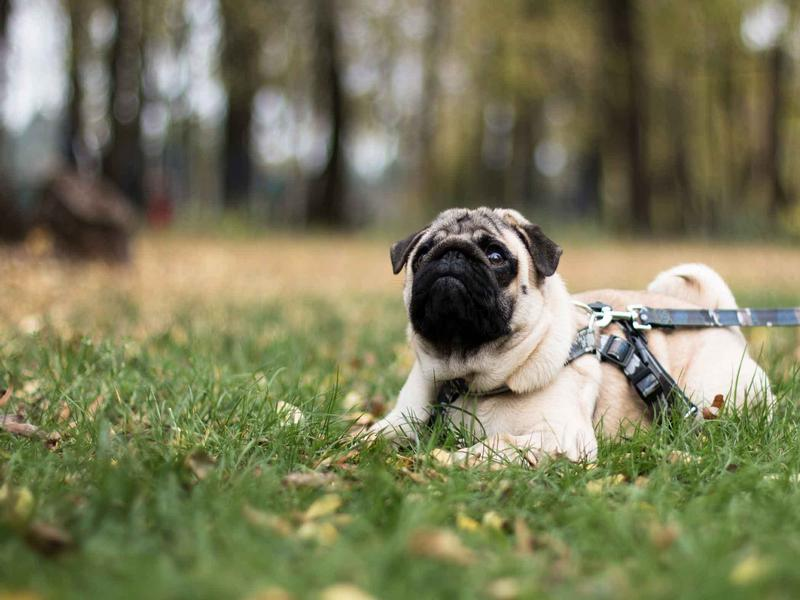dog_down: (355, 201, 779, 478)
